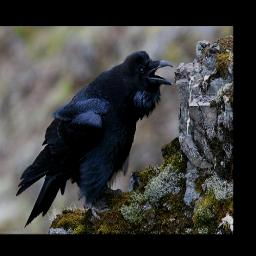Crow: (16, 49, 174, 230)
